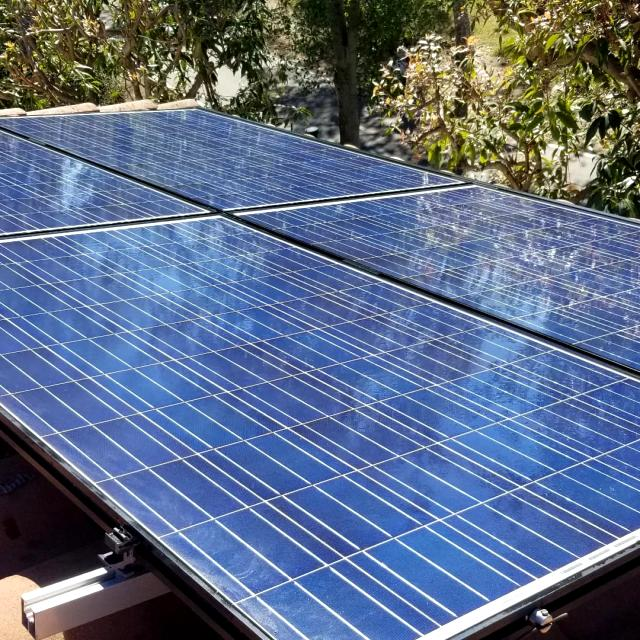crack: (338, 501, 503, 611), (342, 408, 498, 511), (232, 506, 364, 622), (211, 366, 330, 467), (396, 233, 578, 298), (225, 240, 342, 340), (84, 324, 198, 418), (134, 449, 268, 527), (336, 332, 440, 420), (95, 345, 211, 420), (98, 242, 185, 325), (150, 121, 244, 182)
